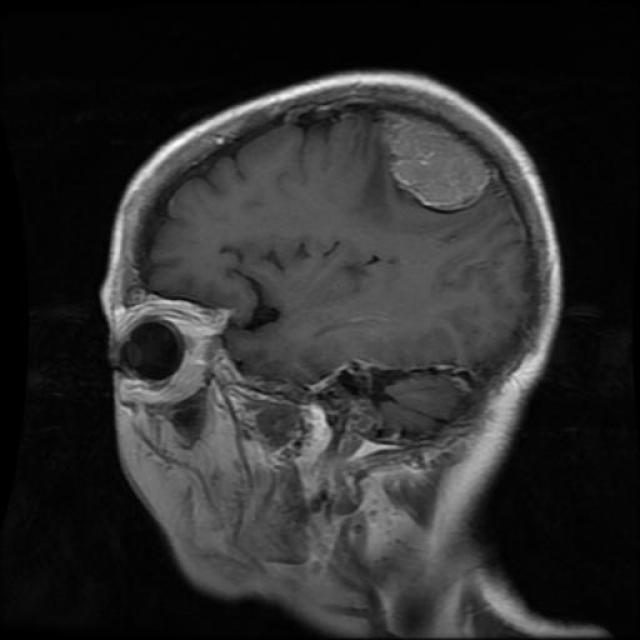meningioma: (382, 112, 490, 212)
